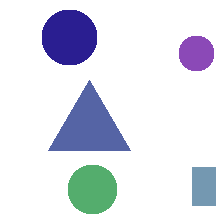circle: (42, 10, 96, 64), (68, 165, 116, 213), (179, 36, 213, 70)
rectangle: (192, 167, 215, 205)
triangle: (48, 80, 130, 150)
